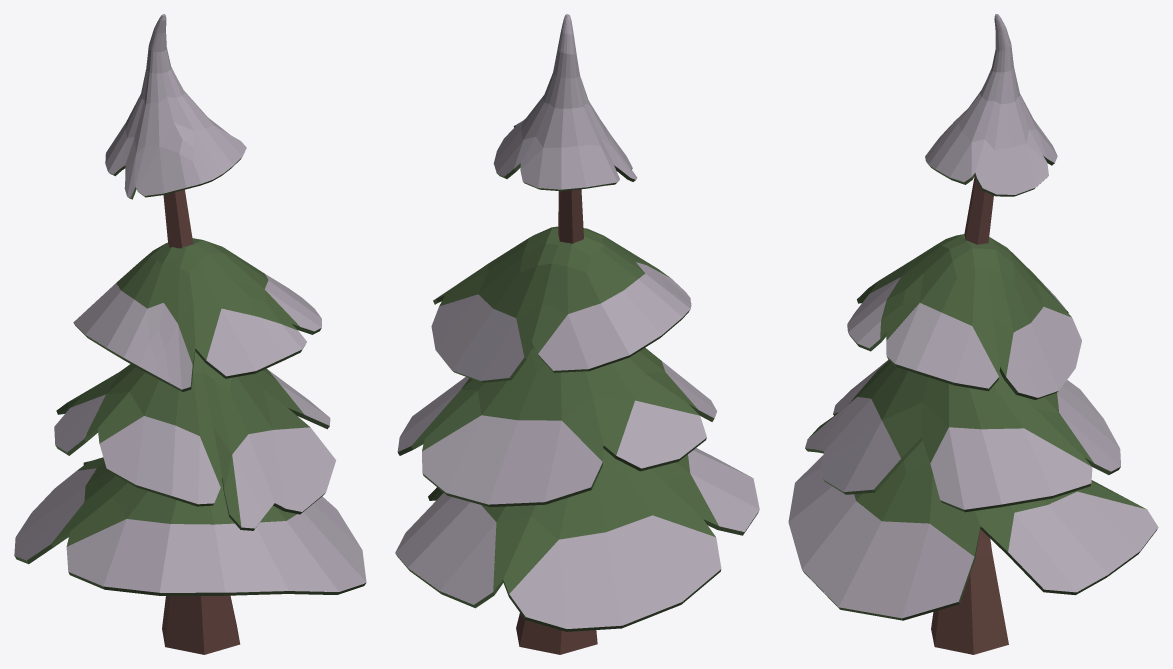
The model's file is PineTree_Snow_2-transformed.glb.
3 renders of one model, left to right at view 1: azimuth 30°, elevation 25°; view 2: azimuth 150°, elevation 25°; view 3: azimuth 270°, elevation 25°, orthographic. The views are drawn at different scales.
Parts seen in each view (by area): view 1: PineTree_Snow_2; view 2: PineTree_Snow_2; view 3: PineTree_Snow_2.
Part boxes in pixels (box(x1,y1,x2,y2)): PineTree_Snow_2: box(14, 14, 366, 654); PineTree_Snow_2: box(395, 14, 759, 654); PineTree_Snow_2: box(788, 14, 1158, 654).
Size of the model in its own units: 1.8 by 3.56 by 1.96.
